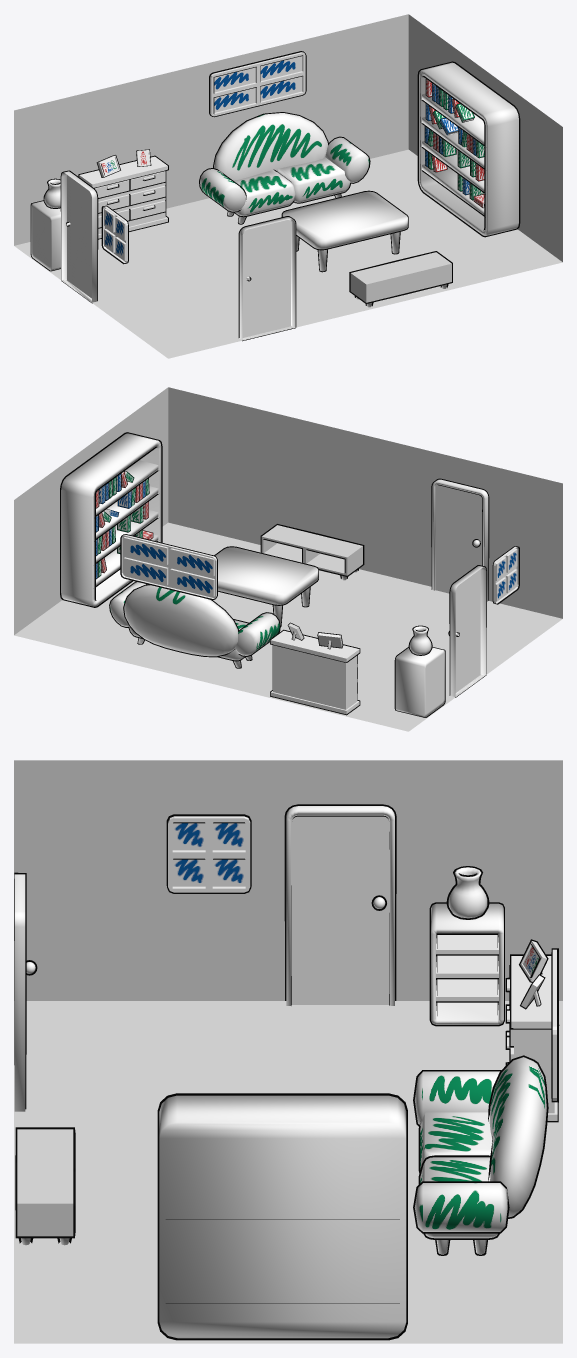
Rendered from MainScenario.glb.
The picture shows the model from 3 angles, top to bottom: view 1: azimuth 30°, elevation 25°; view 2: azimuth 150°, elevation 25°; view 3: azimuth 270°, elevation 25°; orthographic projection. The views are drawn at different scales.
Visible parts, largest first — view 1: Escena, Sofa, Estanteria Grande, Puerta2, Mesa, Ventana.001, Puerta, Cajones, MesaBaja, LibroS, Estanteria, Ventana (+1 smaller); view 2: Escena, Estanteria Grande, Sofa, Cajones, Puerta2, Mesa, Ventana.001, Puerta, MesaBaja, Estanteria, LibroS, Ventana (+1 smaller); view 3: Escena, Estanteria Grande, Puerta, Sofa, Estanteria, MesaBaja, Ventana, Cajones, Puerta2, Jarro, Ventana.001, Cuadro 2.
Boxes of the visible parts, left/top/right/bottom form: Escena: left=14, top=14, right=562, bottom=358; Sofa: left=199, top=112, right=370, bottom=224; Estanteria Grande: left=417, top=61, right=520, bottom=237; Puerta2: left=238, top=216, right=296, bottom=341; Mesa: left=281, top=190, right=408, bottom=272; Ventana.001: left=209, top=51, right=306, bottom=117; Puerta: left=60, top=170, right=98, bottom=303; Cajones: left=78, top=155, right=168, bottom=239; MesaBaja: left=349, top=251, right=452, bottom=307; LibroS: left=424, top=79, right=484, bottom=208; Estanteria: left=30, top=200, right=60, bottom=271; Ventana: left=101, top=205, right=128, bottom=264; Escena: left=14, top=387, right=562, bottom=731; Estanteria Grande: left=60, top=432, right=162, bottom=607; Sofa: left=109, top=581, right=280, bottom=668; Cajones: left=270, top=629, right=360, bottom=715; Puerta2: left=431, top=478, right=489, bottom=601; Mesa: left=214, top=546, right=318, bottom=626; Ventana.001: left=120, top=534, right=217, bottom=599; Puerta: left=448, top=565, right=486, bottom=697; MesaBaja: left=260, top=524, right=364, bottom=580; Estanteria: left=394, top=647, right=445, bottom=717; LibroS: left=96, top=471, right=153, bottom=579; Ventana: left=492, top=546, right=519, bottom=604; Escena: left=14, top=760, right=562, bottom=1343; Estanteria Grande: left=157, top=1093, right=407, bottom=1340; Puerta: left=284, top=804, right=396, bottom=1005; Sofa: left=413, top=1055, right=548, bottom=1255; Estanteria: left=429, top=902, right=504, bottom=1026; MesaBaja: left=15, top=1127, right=75, bottom=1245; Ventana: left=166, top=814, right=251, bottom=893; Cajones: left=505, top=954, right=558, bottom=1122; Puerta2: left=14, top=872, right=37, bottom=1111; Jarro: left=446, top=866, right=489, bottom=919; Ventana.001: left=551, top=948, right=559, bottom=1102; Cuadro 2: left=519, top=939, right=548, bottom=982.
Size of the model in its own units: 43.47 by 14.39 by 29.43.
Materials: 4 (1 with a texture image).
